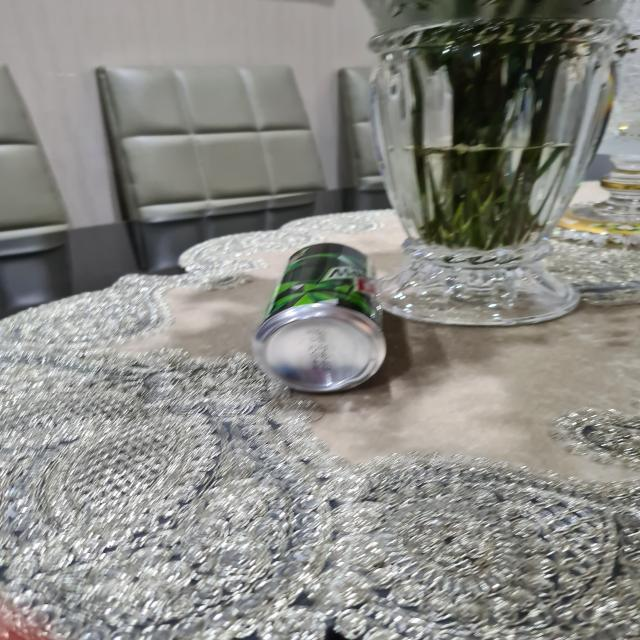can: (246, 240, 396, 399)
